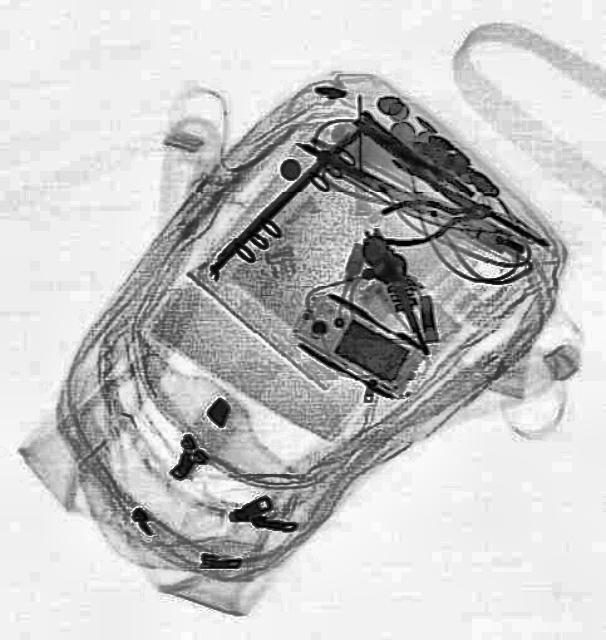Pliers: (371, 186, 491, 248)
